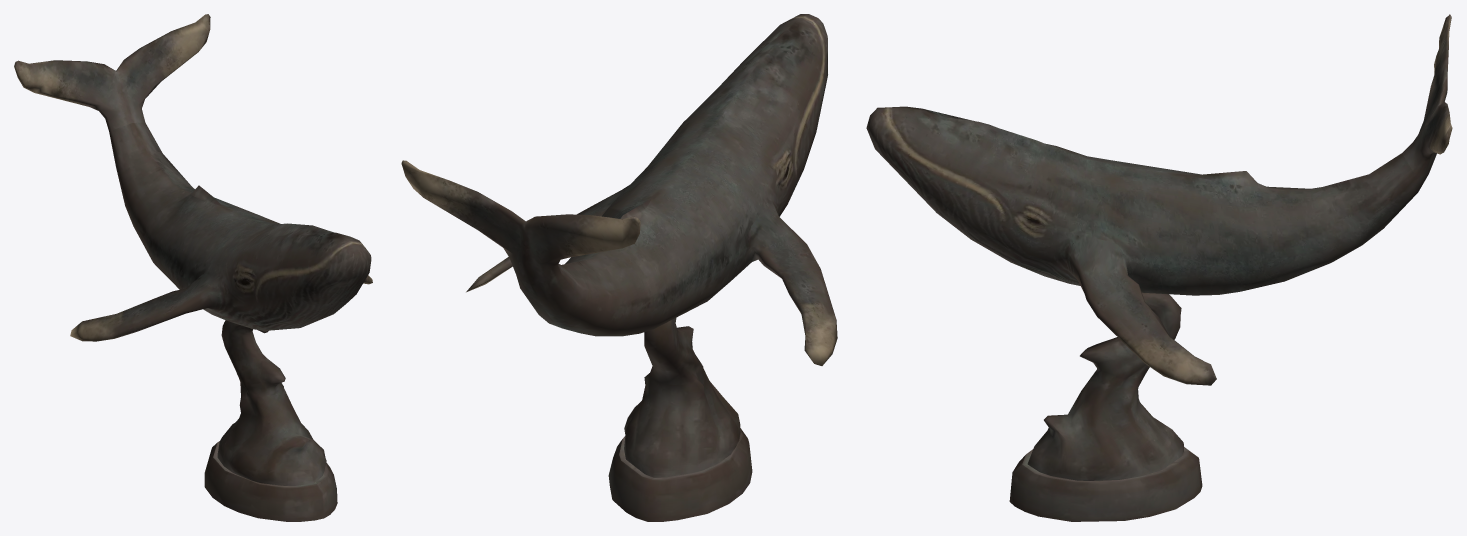
The model's file is bronze_whale_statue.glb.
3 renders of one model, left to right at view 1: azimuth 30°, elevation 25°; view 2: azimuth 150°, elevation 25°; view 3: azimuth 270°, elevation 25°, orthographic. The views are drawn at different scales.
Parts seen in each view (by area): view 1: bronze_whale_statue; view 2: bronze_whale_statue; view 3: bronze_whale_statue.
Part boxes in pixels (x1,y1,x2,y2): bronze_whale_statue: (14,14,372,521); bronze_whale_statue: (401,14,837,521); bronze_whale_statue: (866,14,1452,521).
Bounding box in the file's own units: 0.9306 × 1.07 × 1.37.
Materials: 1 (1 with a texture image).
